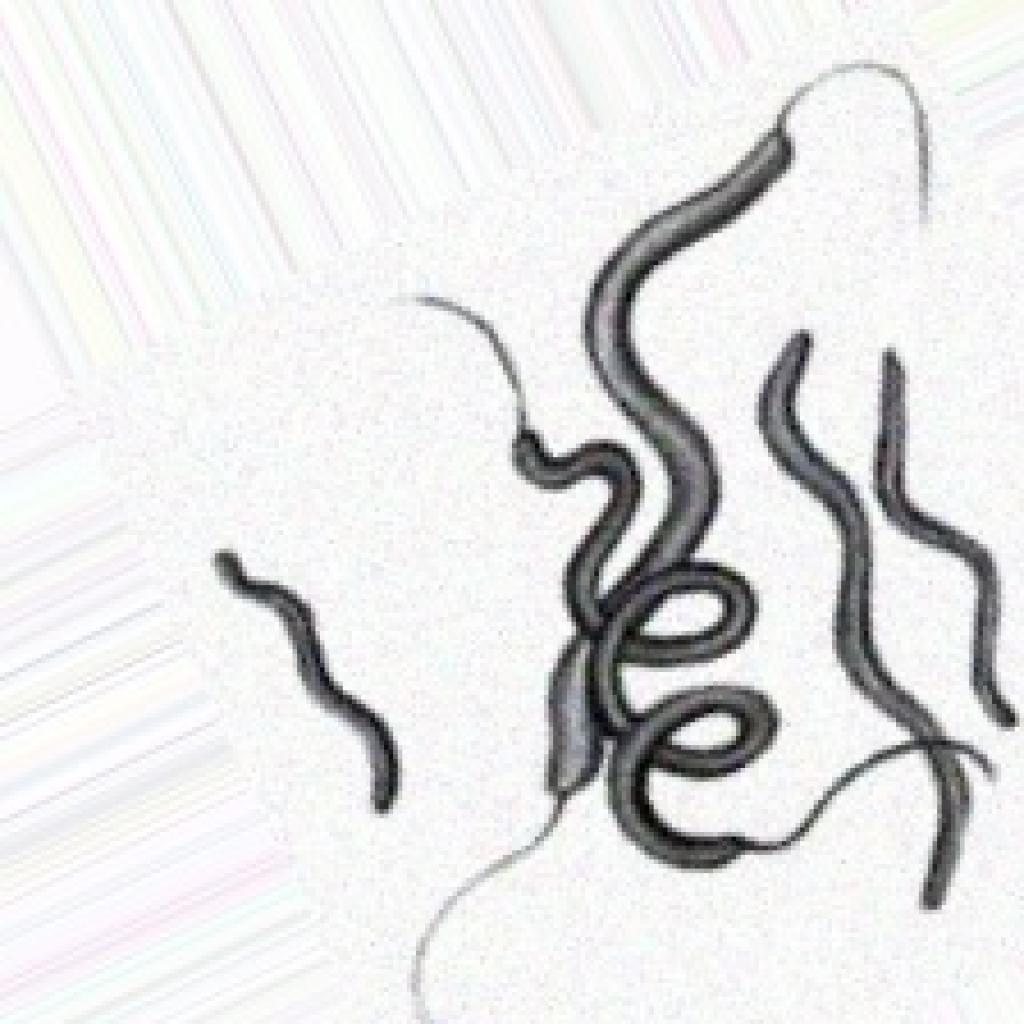Sprialbacteria: (398, 55, 1019, 1019)
